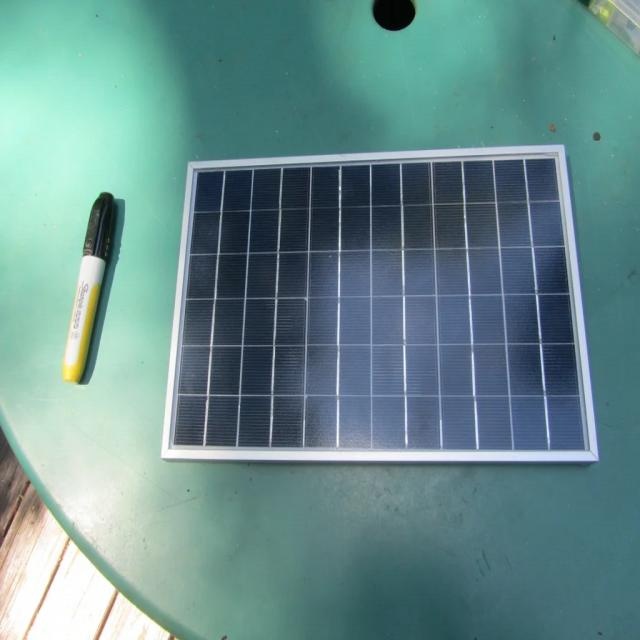no faulty: (168, 157, 592, 455)
